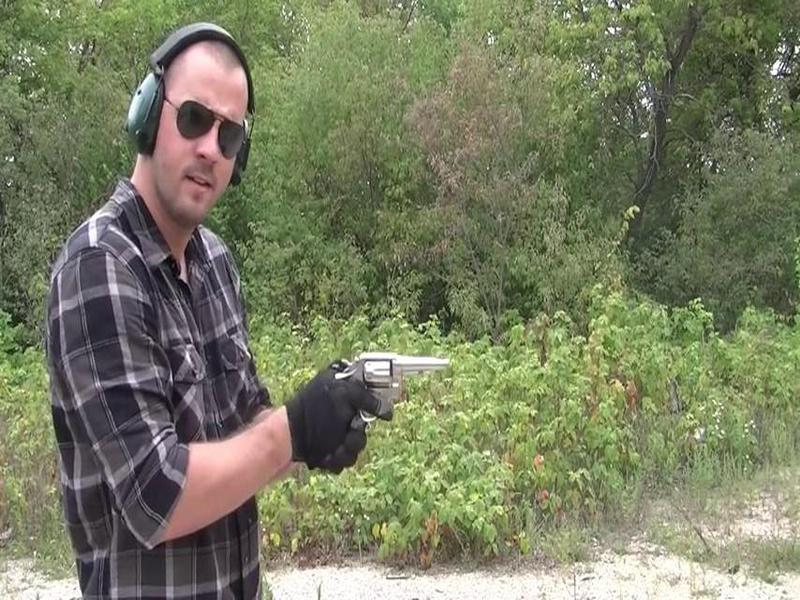Revolver: (333, 344, 456, 427)
